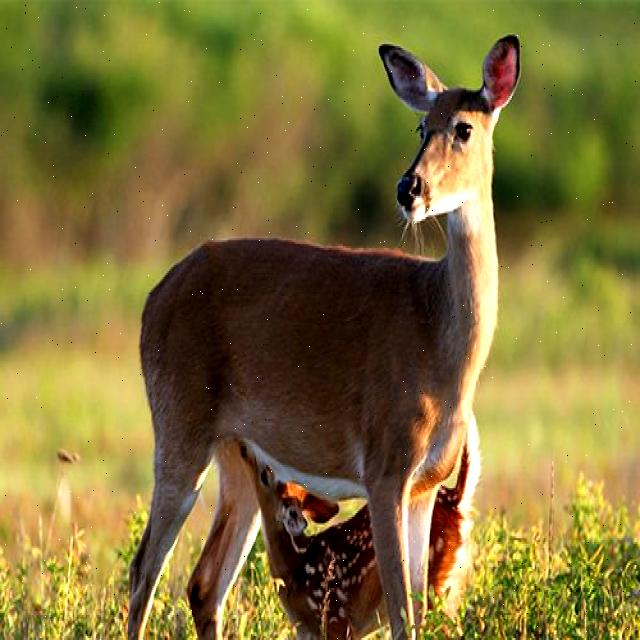deer: (132, 18, 525, 440), (238, 444, 372, 620)
